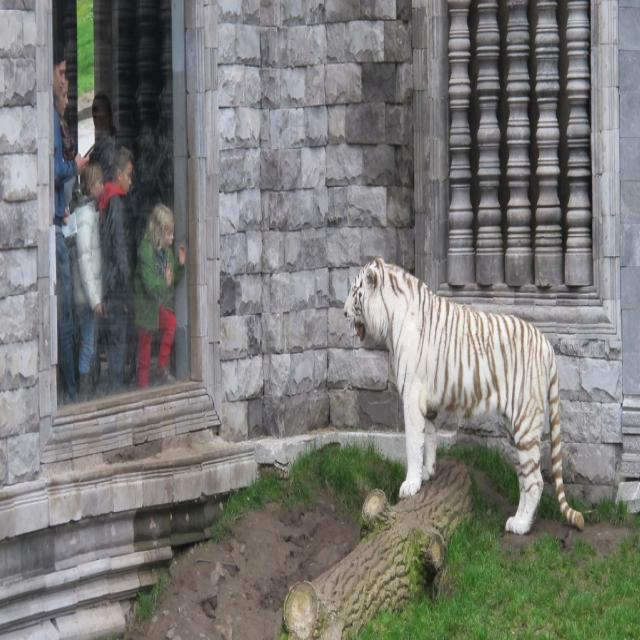Tiger: (343, 257, 584, 532)
